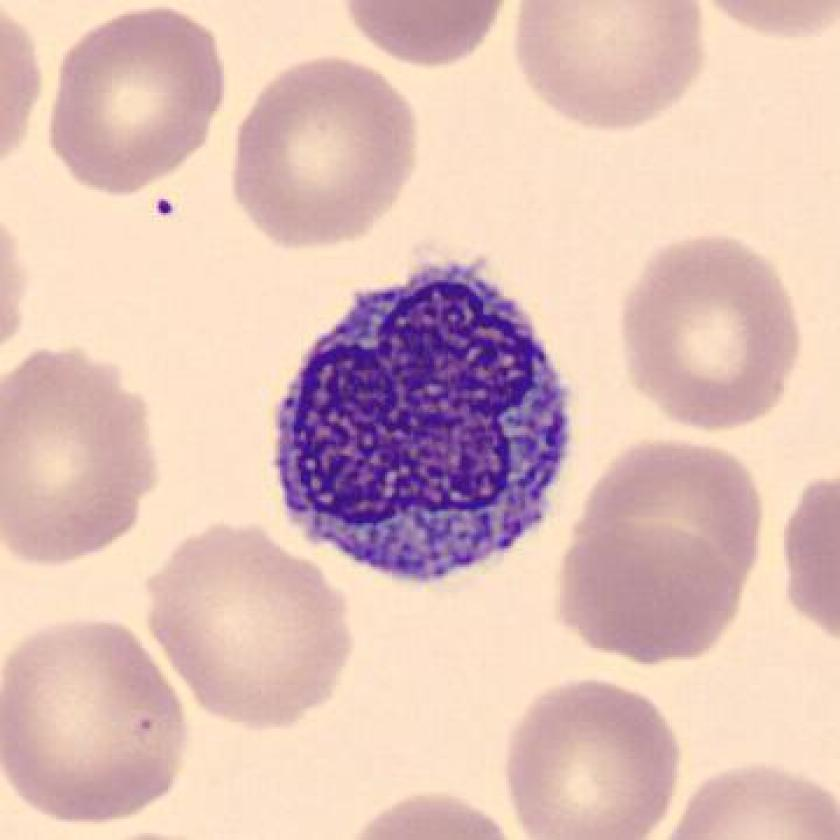monocyte: (251, 246, 608, 626)
